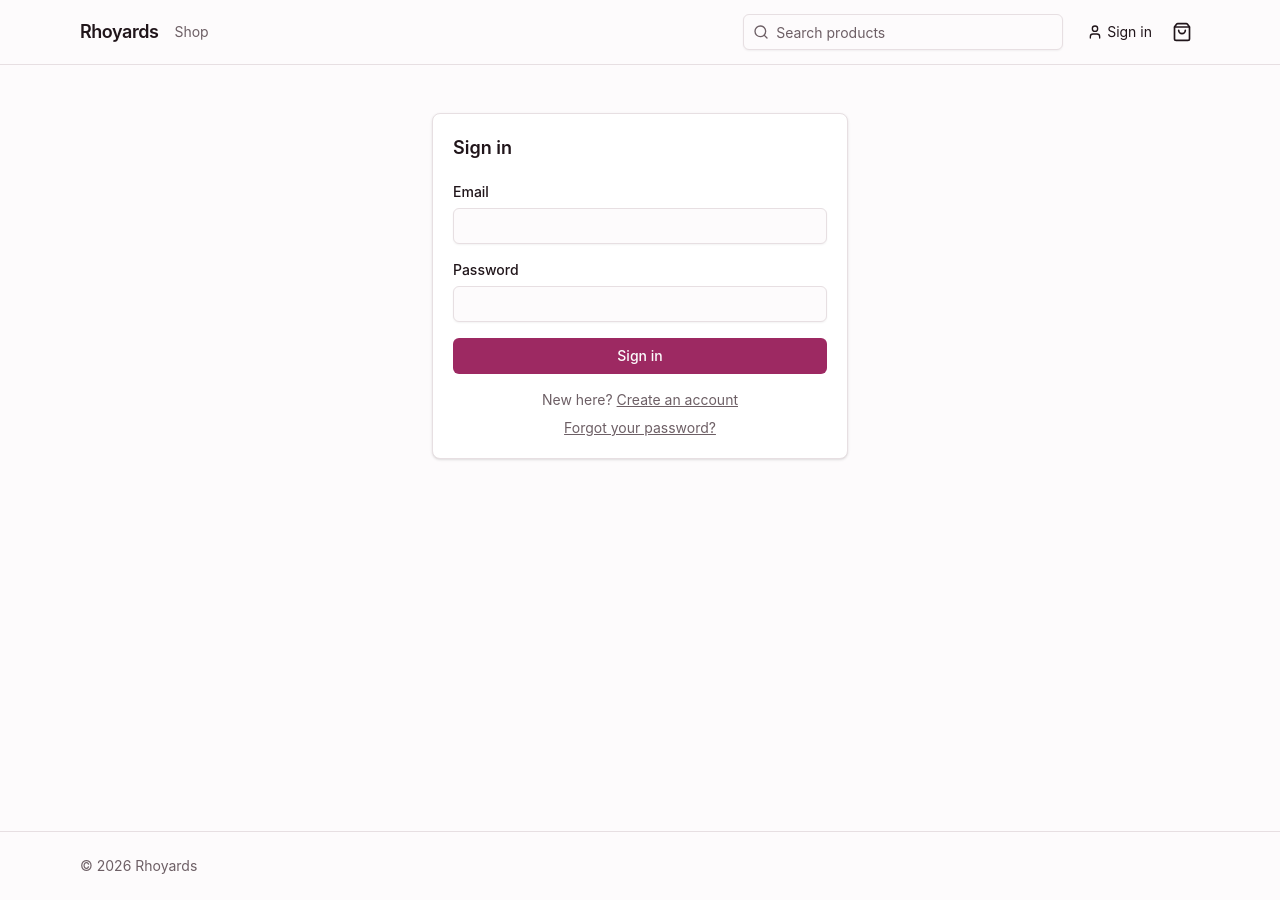
Test: shopper password reset › links from sign-in to a request form that does not reveal whether the account exists
Click the link "Forgot your password?".
click(640, 428)  # box [564, 419, 716, 436]
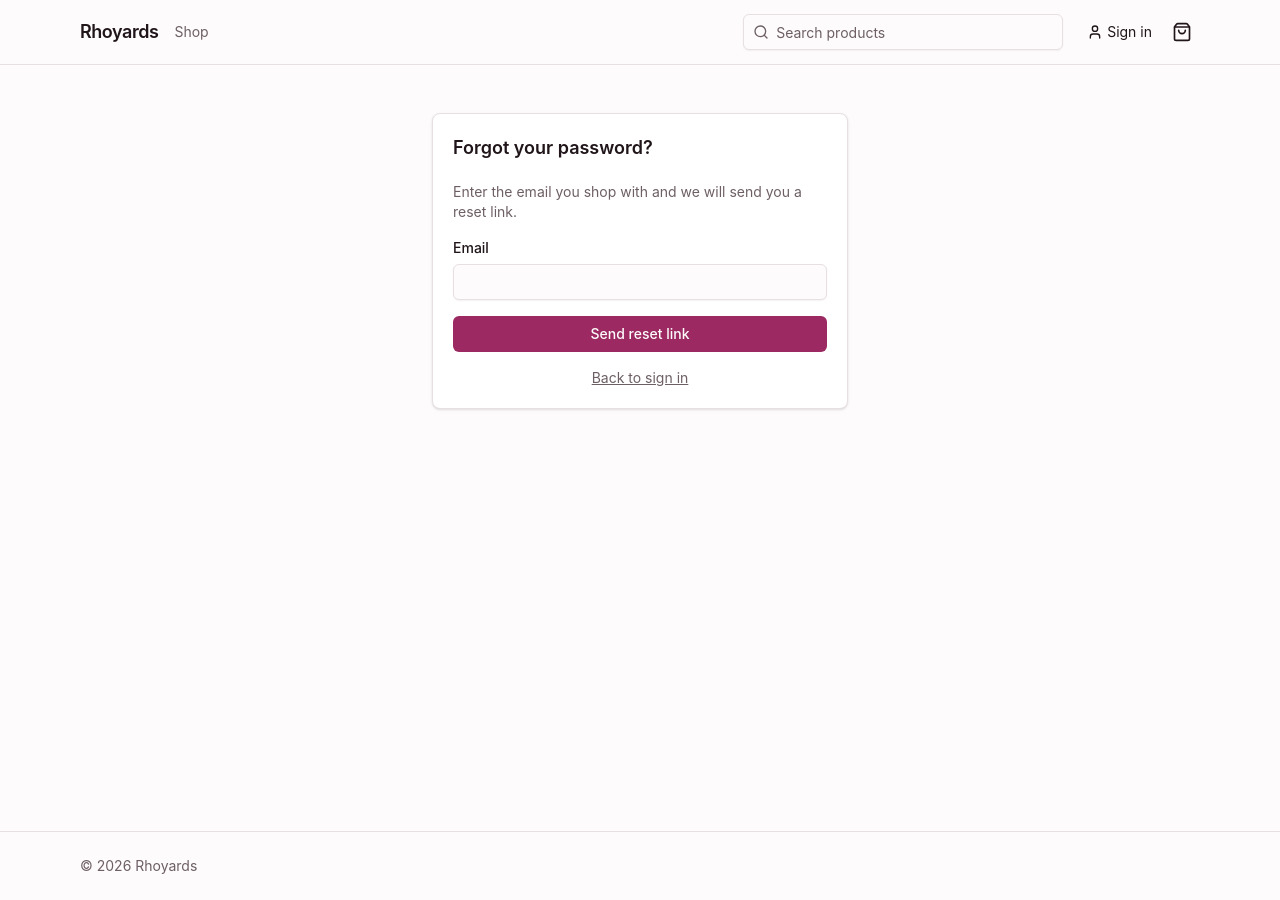
Type "Ada@Shop.test" into the field labelled "Email".
click(640, 282); type("Ada@Shop.test")  # box [453, 264, 827, 300]
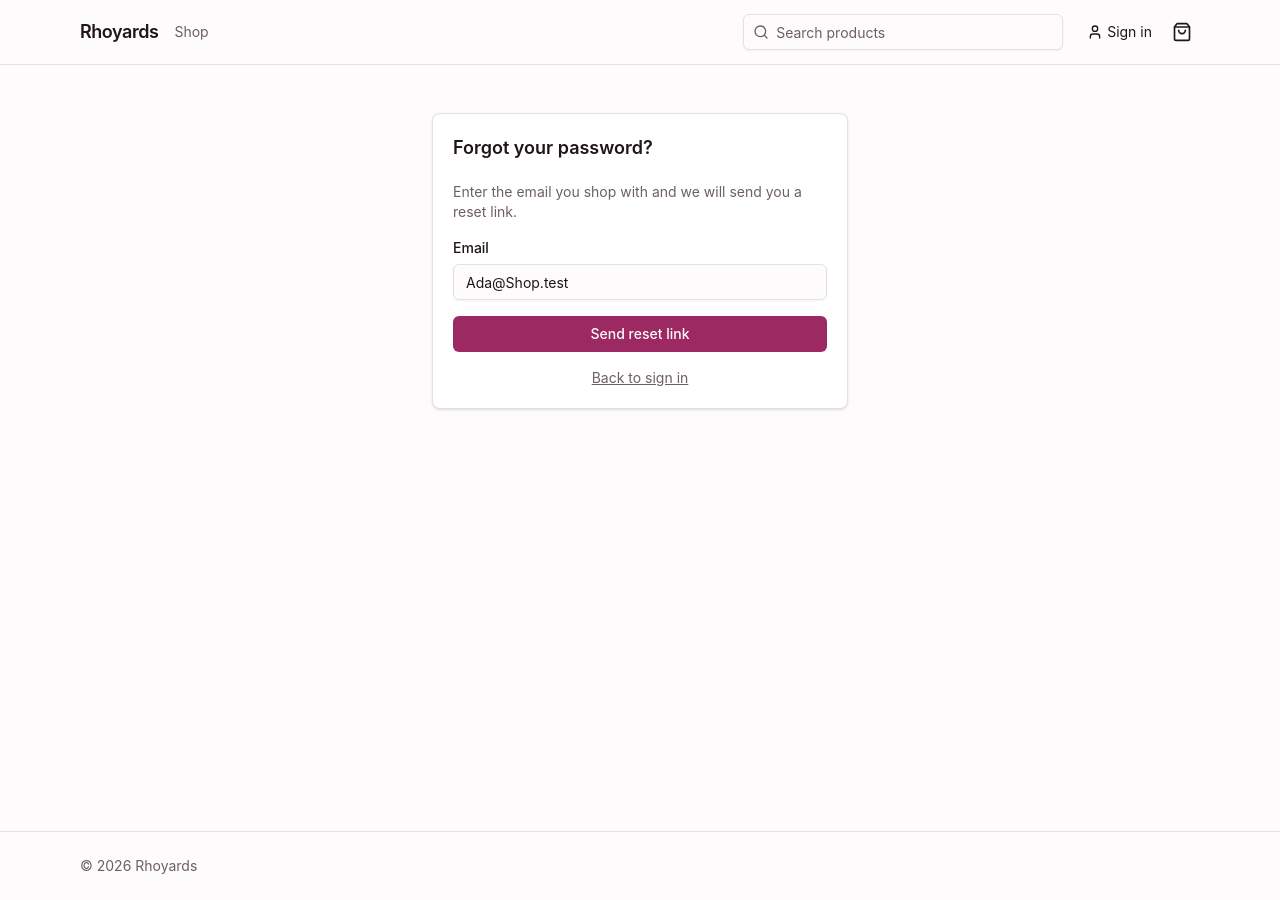
Click the button "Send reset link".
click(640, 334)  # box [453, 316, 827, 352]
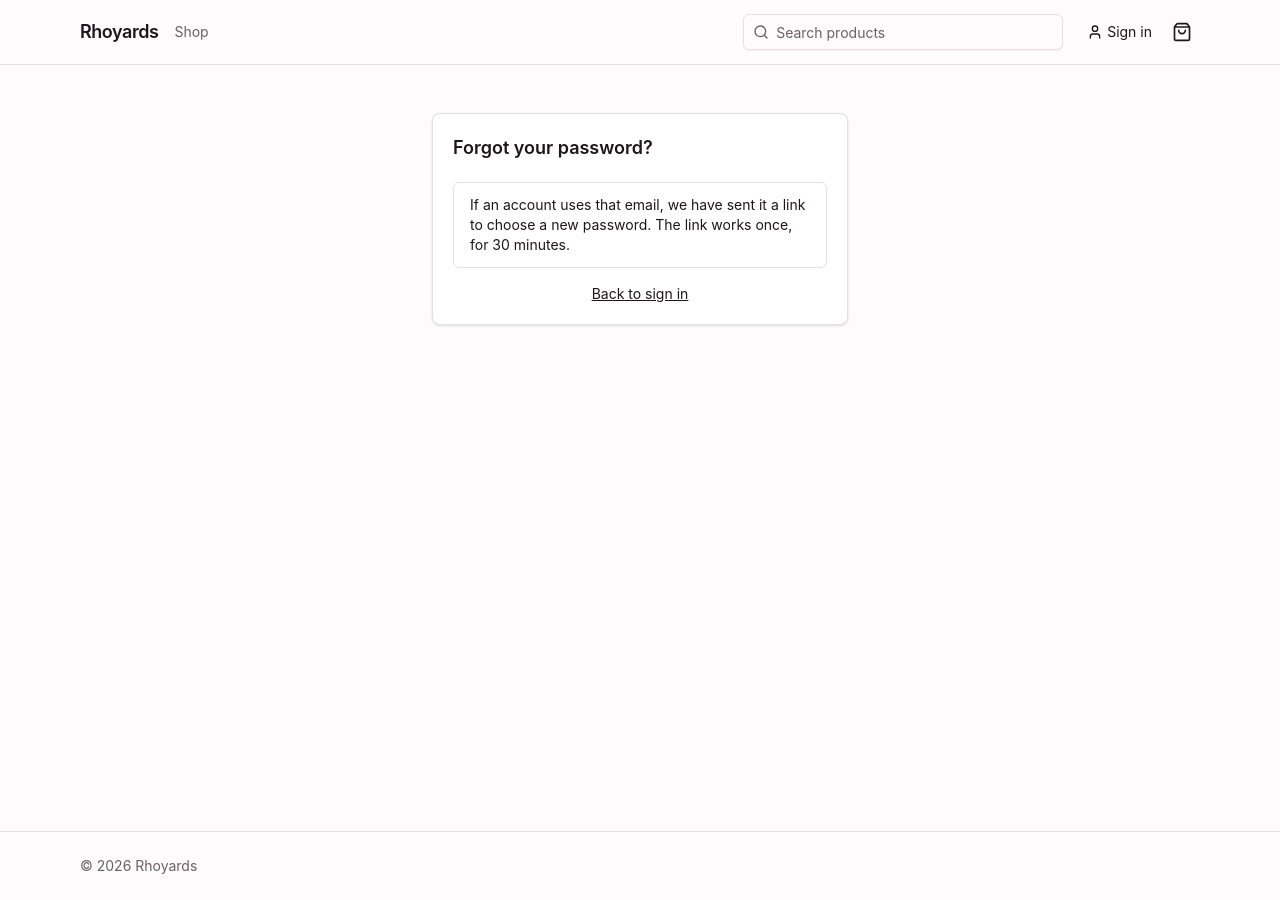
Check: the text "If an account uses that email" is shown, box [470, 196, 805, 253]
